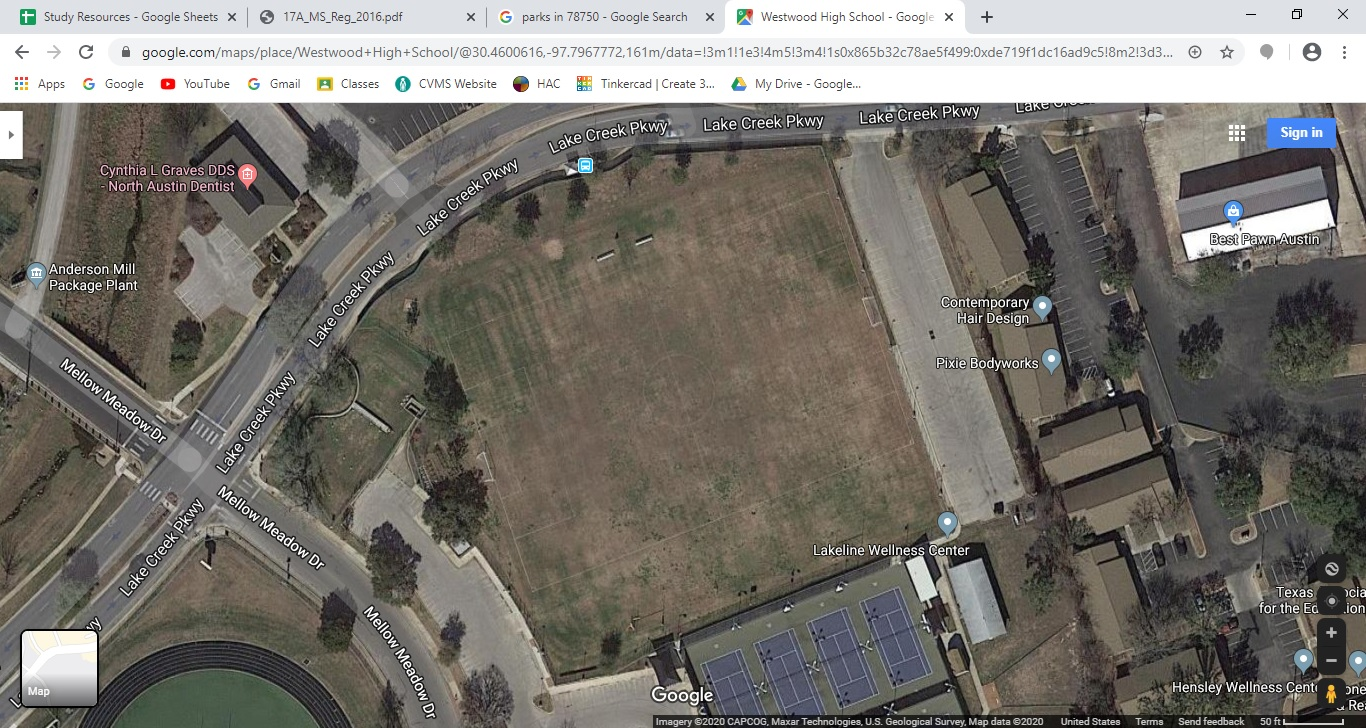soccer: (460, 262, 898, 512)
